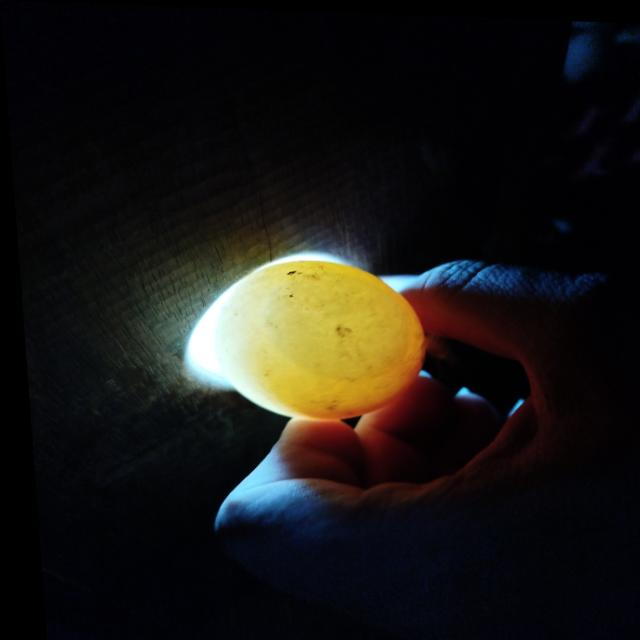Camara de Ar: (259, 270, 403, 378)
